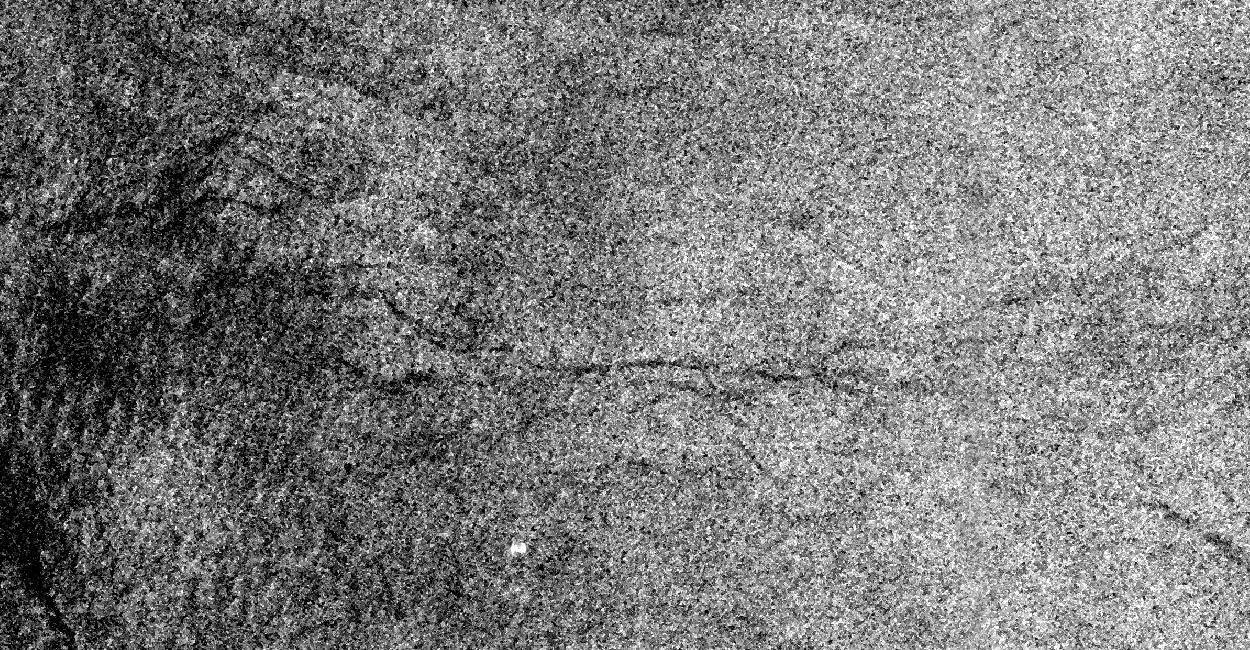Look-alike: (0, 0, 1246, 650)
